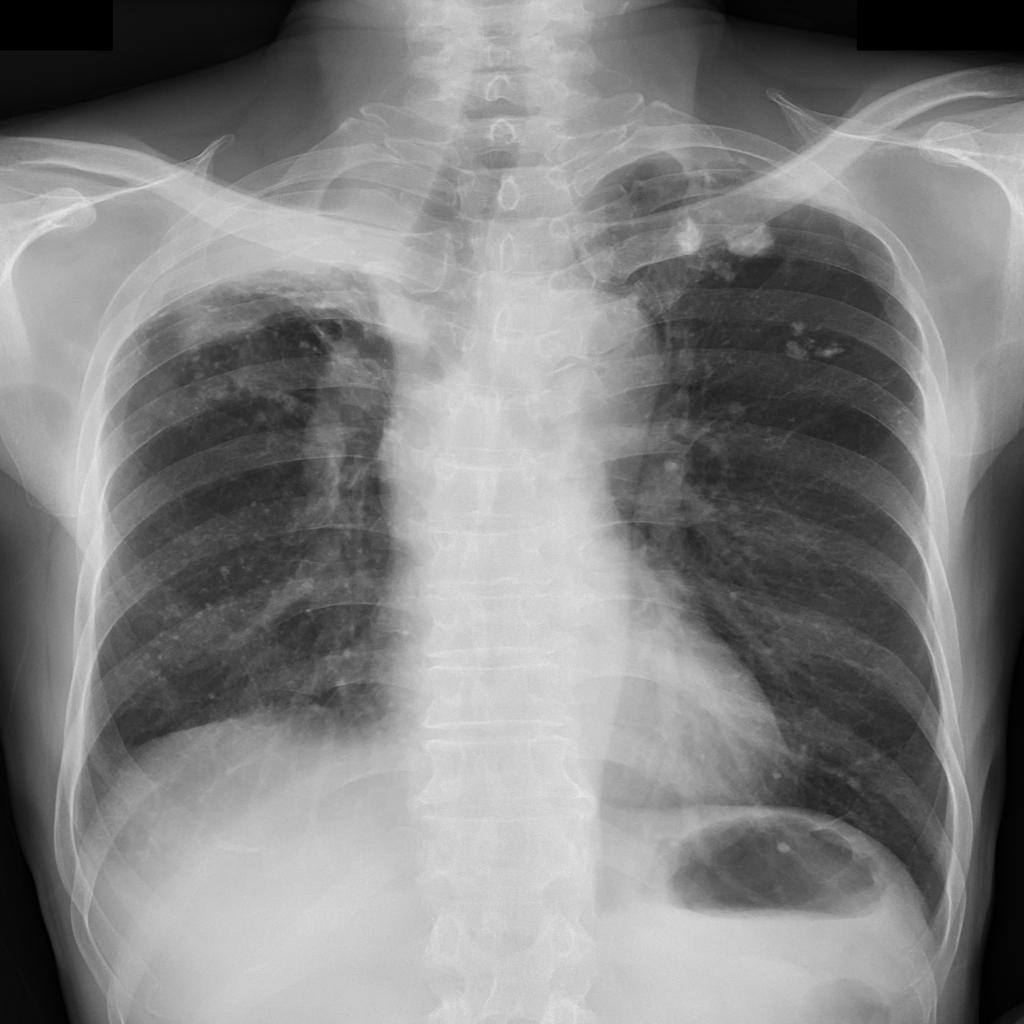Nodule: (724, 222, 774, 261), (677, 218, 702, 257)
